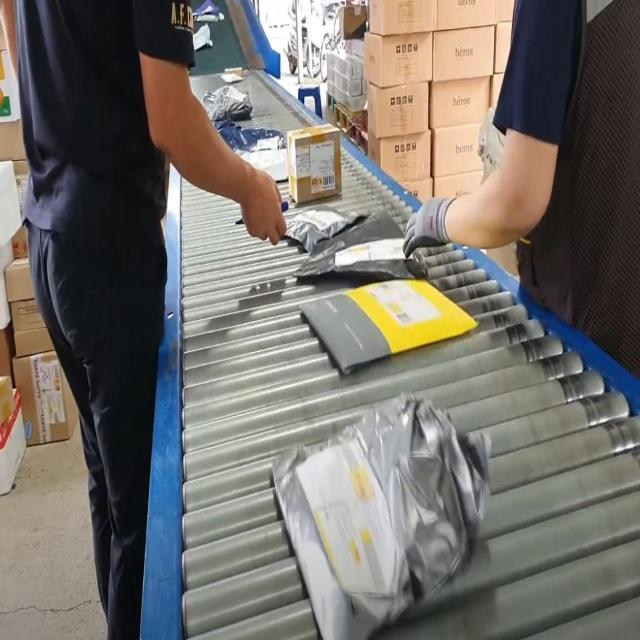bare_hand: (238, 159, 294, 247)
gloved_hand: (400, 188, 457, 263)
